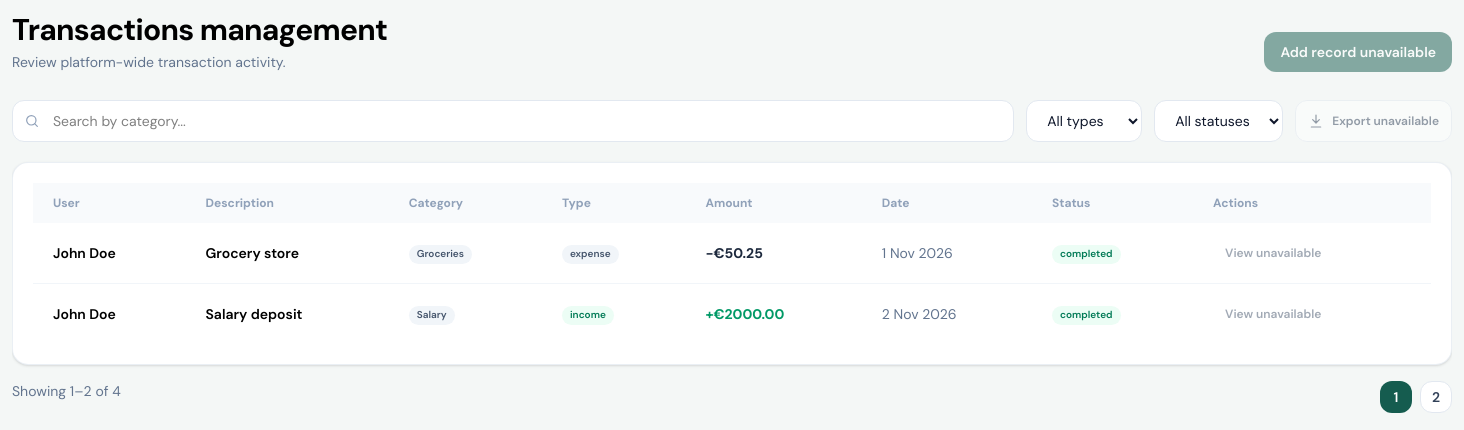
AdminTransactions › paginates to next page
The image size is (1464, 430).
Expected: the text "Grocery store" is shown, [186,223,389,284]
Note: Click page 2 button
What coordinates should you click on to do the following:
click the button named "Go to page 2"
I would click on:
 (1436, 397)
Its box is [1420,381,1452,413].
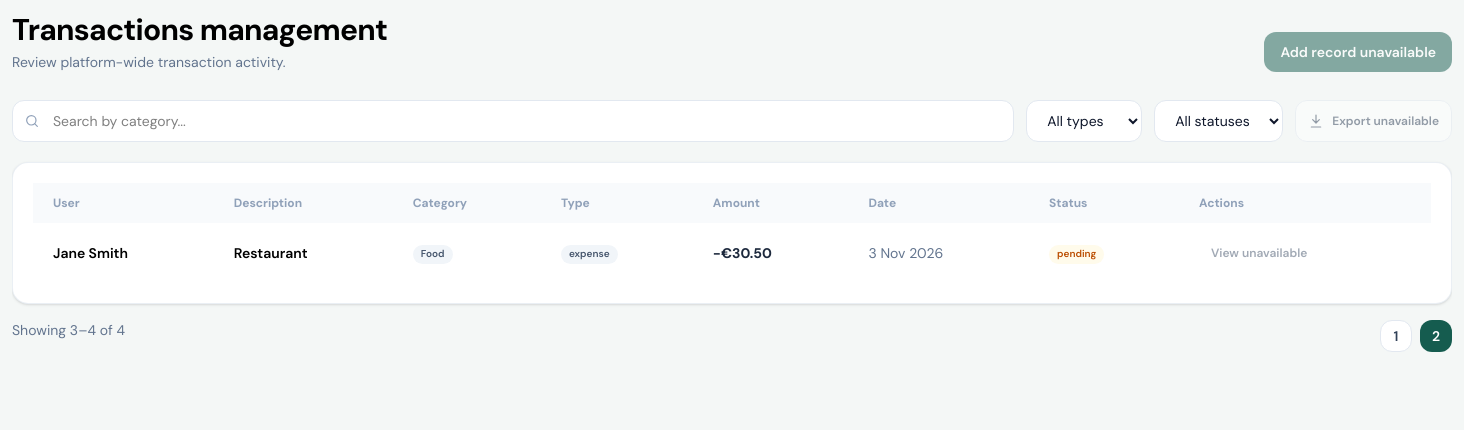
Now the text "Restaurant" is shown, box [214,223,393,283]
Now the text "Grocery store" is gone
